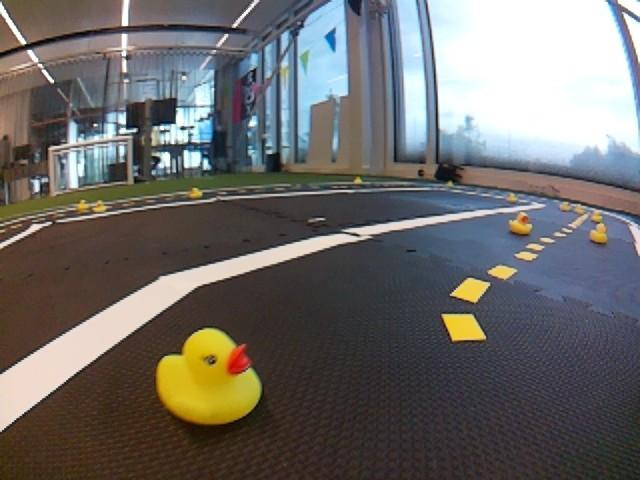Duckies: (156, 326, 265, 427), (508, 211, 534, 235), (587, 223, 610, 246), (92, 200, 107, 211), (591, 211, 602, 222), (574, 205, 585, 215), (190, 188, 202, 197), (77, 201, 89, 210), (507, 193, 518, 202), (560, 202, 572, 210), (352, 178, 362, 184), (446, 181, 454, 186)
